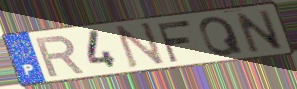4: (86, 27, 122, 73)
F: (154, 18, 193, 64)
N: (114, 20, 167, 70), (232, 7, 286, 55)
Q: (197, 14, 246, 58)
R: (32, 34, 87, 79)
